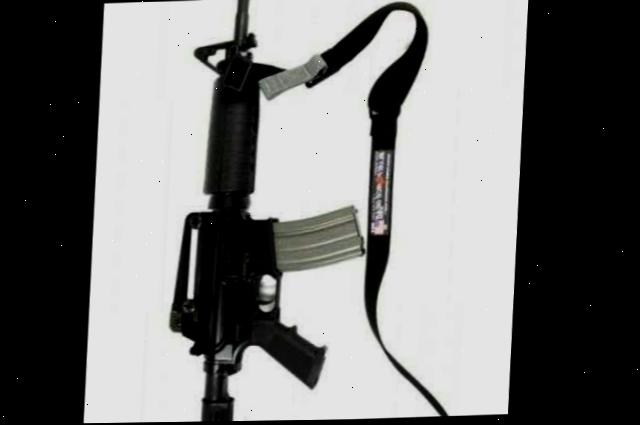rifle: (138, 0, 416, 423)
